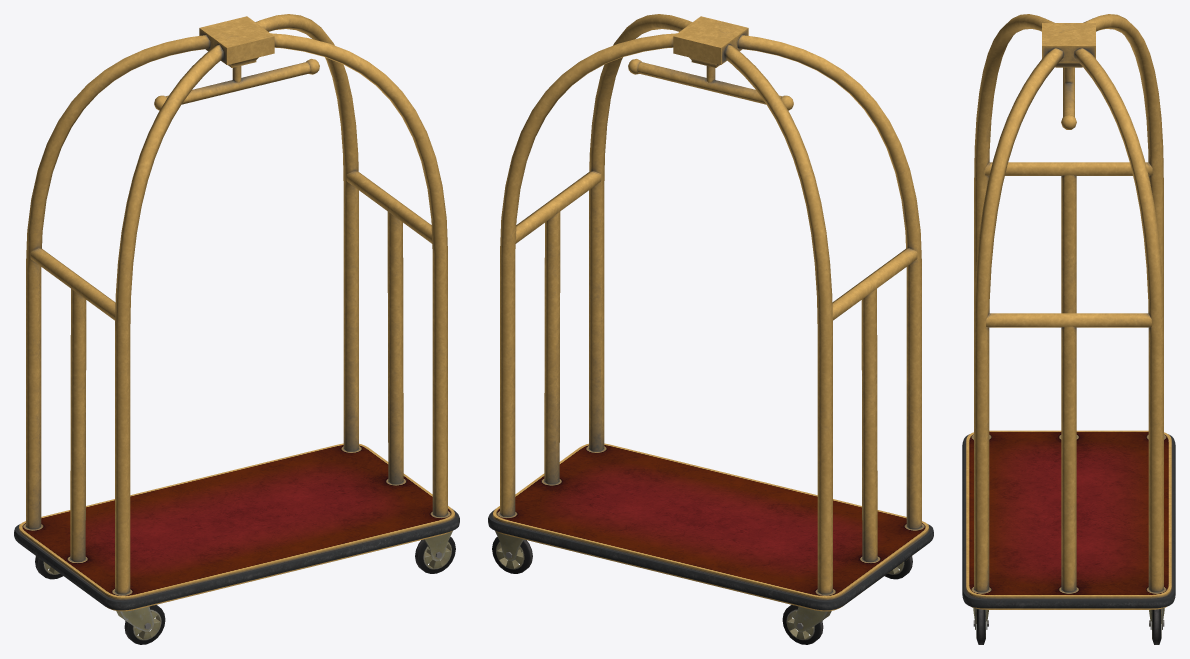
The model's file is SuitcaseTrolley.glb.
3 views of the same model, side by side, from view 1: azimuth 30°, elevation 25°; view 2: azimuth 150°, elevation 25°; view 3: azimuth 270°, elevation 25° (orthographic).
Parts seen in each view (by area): view 1: SuitcaseTrolley; view 2: SuitcaseTrolley; view 3: SuitcaseTrolley.
Boxes of the visible parts, bbox=[...] form: SuitcaseTrolley: bbox=[14, 14, 459, 644]; SuitcaseTrolley: bbox=[488, 14, 933, 644]; SuitcaseTrolley: bbox=[962, 14, 1175, 644].
Bounding box in the file's own units: 1.28 × 1.89 × 0.6823.
Materials: 1 (1 with a texture image).
